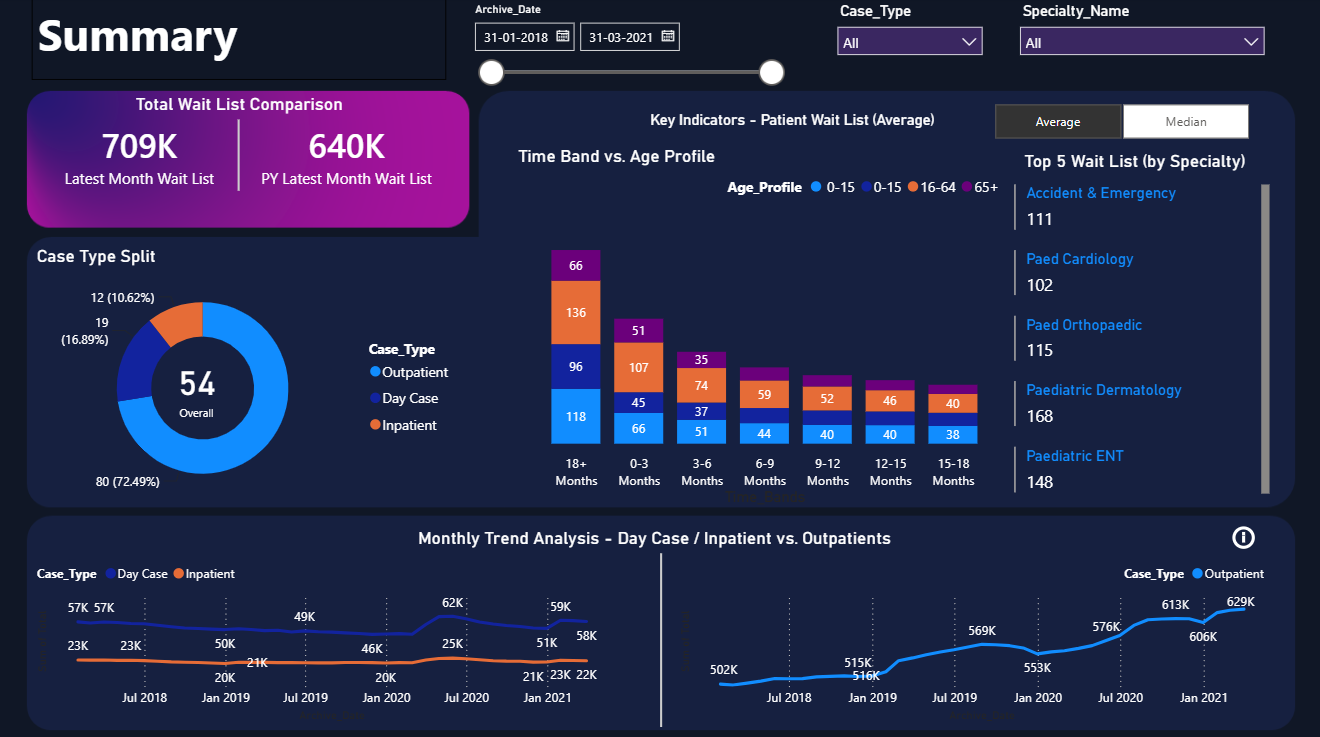

The dashboard page shown, as its layout file describes it:
{"tool":"powerbi","page":{"name":"Summary","canvas":[1280,720],"ordinal":0},"visuals":[{"type":"cardVisual","fields":{"Data":["All_Data.Latest Month Wait List"]},"box":[32,96,208,112],"z":0},{"type":"cardVisual","fields":{"Data":["All_Data.PY Latest Month Wait List"]},"box":[224,96,224,112],"z":1000},{"type":"slicer","fields":{"Values":["Calculation Method.Calc Method"]},"box":[936.2,96.5,295.6,47.1],"z":2000},{"type":"donutChart","title":"Case Type Split","fields":{"Category":["All_Data.Case_Type"],"Y":["All_Data.Avg/Med Wait List"]},"box":[32.6,240.1,416.2,255.8],"z":3000},{"type":"columnChart","title":"Time Band vs. Age Profile","fields":{"Y":["All_Data.Avg/Med Wait List"],"Category":["All_Data.Time_Bands"],"Series":["All_Data.Age_Profile"]},"box":[497.1,143.6,479,352.3],"z":4000},{"type":"card","fields":{"Values":["All_Data.NoDataLeft"]},"box":[131.5,580.3,368,82],"z":4500},{"type":"lineChart","fields":{"Category":["All_Data.Archive_Date"],"Y":["Sum(All_Data.Total)"],"Series":["All_Data.Case_Type"]},"box":[32.6,536.9,564.6,167.7],"z":5000},{"type":"card","fields":{"Values":["All_Data.NoDataRight"]},"box":[776.9,580.3,368,82],"z":5500},{"type":"lineChart","fields":{"Category":["All_Data.Archive_Date"],"Y":["Sum(All_Data.Total)"],"Series":["All_Data.Case_Type"]},"box":[652.7,536.9,579.1,167.7],"z":6000},{"type":"slicer","fields":{"Values":["All_Data.Archive_Date"]},"box":[448,0,320,112],"z":7000},{"type":"slicer","fields":{"Values":["All_Data.Case_Type"]},"box":[800,0,160,80],"z":8000},{"type":"slicer","fields":{"Values":["All_Data.Specialty_Name"]},"box":[976,0,256,80],"z":9000},{"type":"textbox","box":[32,0,400,80],"z":10000},{"type":"multiRowCard","fields":{"Values":["All_Data.Specialty_Name","All_Data.Avg/Med Wait List"]},"box":[976,176,256,320],"z":11000},{"type":"card","fields":{"Values":["All_Data.Avg/Med Wait List"]},"box":[127.9,336.6,127.9,80.8],"z":12000},{"type":"shape","box":[82,118.2,300.4,68.8],"z":13000},{"type":"textbox","box":[985.7,143.6,246.1,43.4],"z":14000},{"type":"textbox","box":[127.9,88.1,272.7,32.6],"z":15000},{"type":"shape","box":[489.8,536.9,300.4,167.7],"z":16000},{"type":"textbox","box":[400.5,506.7,469.3,43.4],"z":17000},{"type":"card","fields":{"Values":["All_Data.Dynamic Title"]},"box":[597.2,96.5,339,47.1],"z":18000},{"type":"actionButton","box":[1187.1,506.7,54.3,30.2],"z":19000}]}

Visuals, with their boxes in screenshot pixels (x1, y1, x2, y2), scaled from the page's 1280x720 canvas onto the 1320x737 screenshot:
cardVisual - All_Data.Latest Month Wait List: bbox=(33, 98, 248, 213)
cardVisual - All_Data.PY Latest Month Wait List: bbox=(231, 98, 462, 213)
slicer - Calculation Method.Calc Method: bbox=(965, 99, 1270, 147)
"Case Type Split" donutChart: bbox=(34, 246, 463, 508)
"Time Band vs. Age Profile" columnChart: bbox=(513, 147, 1007, 508)
card - All_Data.NoDataLeft: bbox=(136, 594, 515, 678)
lineChart - All_Data.Archive_Date x Sum(All_Data.Total): bbox=(34, 550, 616, 721)
card - All_Data.NoDataRight: bbox=(801, 594, 1181, 678)
lineChart - All_Data.Archive_Date x Sum(All_Data.Total): bbox=(673, 550, 1270, 721)
slicer - All_Data.Archive_Date: bbox=(462, 0, 792, 115)
slicer - All_Data.Case_Type: bbox=(825, 0, 990, 82)
slicer - All_Data.Specialty_Name: bbox=(1006, 0, 1270, 82)
textbox: bbox=(33, 0, 446, 82)
multiRowCard - All_Data.Specialty_Name x All_Data.Avg/Med Wait List: bbox=(1006, 180, 1270, 508)
card - All_Data.Avg/Med Wait List: bbox=(132, 345, 264, 427)
shape: bbox=(85, 121, 394, 191)
textbox: bbox=(1017, 147, 1270, 191)
textbox: bbox=(132, 90, 413, 124)
shape: bbox=(505, 550, 815, 721)
textbox: bbox=(413, 519, 897, 563)
card - All_Data.Dynamic Title: bbox=(616, 99, 965, 147)
actionButton: bbox=(1224, 519, 1280, 550)
